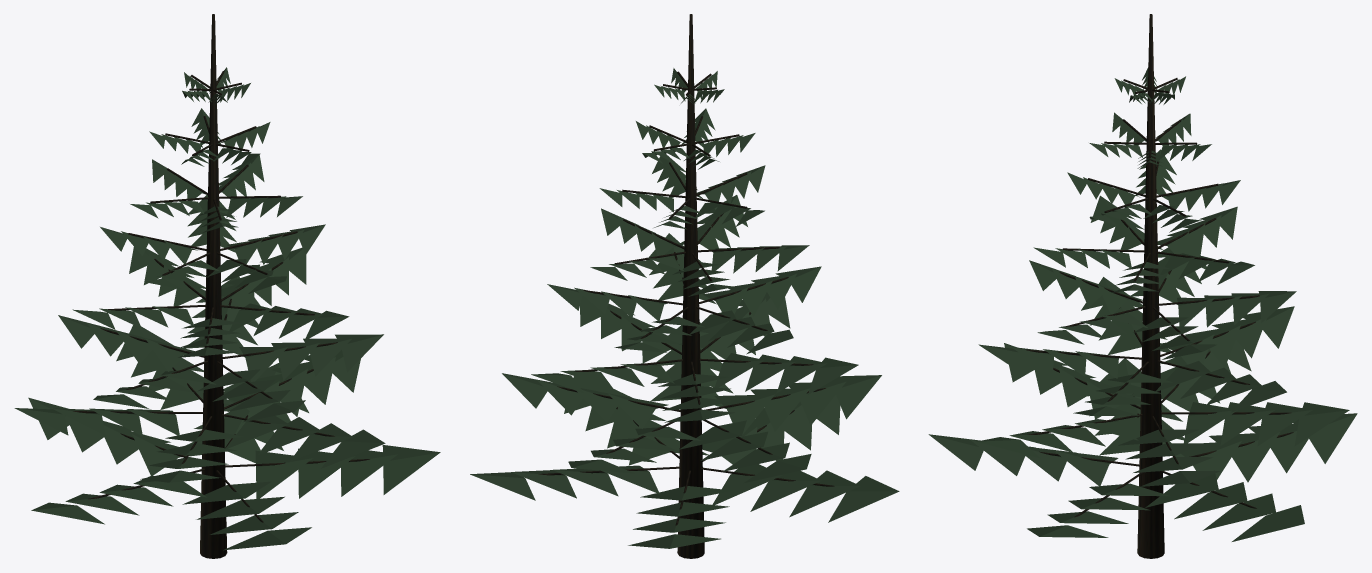
The model's file is pine-3.glb.
3 views of the same model, side by side, from view 1: azimuth 30°, elevation 25°; view 2: azimuth 150°, elevation 25°; view 3: azimuth 270°, elevation 25° (orthographic).
Parts seen in each view (by area): view 1: Trunk.002, Needle spray.670, Needle spray.668, Needle spray.664, Needle spray.666, Needle spray.643, Needle spray.641, Needle spray.708, Needle spray.702, Needle spray.700, Needle spray.698, Needle spray.696 (+18 smaller); view 2: Trunk.002, Needle spray.650, Needle spray.654, Needle spray.652, Needle spray.694, Needle spray.690, Needle spray.692, Needle spray.660, Needle spray.648, Needle spray.688, Needle spray.667, Needle spray.677 (+13 smaller); view 3: Trunk.002, Needle spray.646, Needle spray.642, Needle spray.644, Needle spray.718, Needle spray.716, Needle spray.714, Needle spray.657, Needle spray.663, Needle spray.712, Needle spray.678, Needle spray.676 (+10 smaller).
Boxes of the visible parts, x1,y1,x2,y2 form: Trunk.002: (200,14,227,558); Needle spray.670: (383,452,440,494); Needle spray.668: (341,454,397,496); Needle spray.664: (256,458,313,498); Needle spray.666: (298,456,355,498); Needle spray.643: (103,425,138,464); Needle spray.641: (132,434,178,476); Needle spray.708: (304,357,335,404); Needle spray.702: (321,441,385,468); Needle spray.700: (289,435,353,462); Needle spray.698: (257,428,320,455); Needle spray.696: (226,422,288,448); Trunk.002: (677,14,704,558); Needle spray.650: (750,480,821,511); Needle spray.654: (828,491,899,522); Needle spray.652: (789,486,860,517); Needle spray.694: (836,375,881,419); Needle spray.690: (764,388,809,431); Needle spray.692: (800,382,845,425); Needle spray.660: (784,405,811,450); Needle spray.648: (712,475,782,504); Needle spray.688: (727,394,774,436); Needle spray.667: (607,405,638,448); Needle spray.677: (511,472,576,498); Trunk.002: (1137,14,1164,558); Needle spray.646: (1309,413,1357,463); Needle spray.642: (1232,432,1280,482); Needle spray.644: (1270,431,1310,473); Needle spray.718: (1294,410,1349,445); Needle spray.716: (1257,410,1312,445); Needle spray.714: (1220,410,1274,445); Needle spray.657: (1053,450,1109,486); Needle spray.663: (928,434,983,470); Needle spray.712: (1184,410,1237,443); Needle spray.678: (1232,515,1303,541); Needle spray.676: (1202,504,1275,530).
Size of the model in its own units: 7.14 by 10 by 7.23.
Materials: 2 (1 with a texture image).
